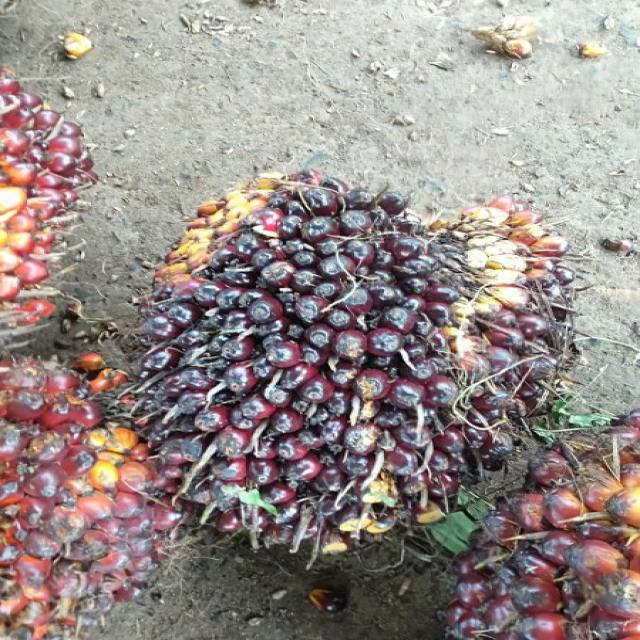fraksi 1: (125, 173, 572, 552)
